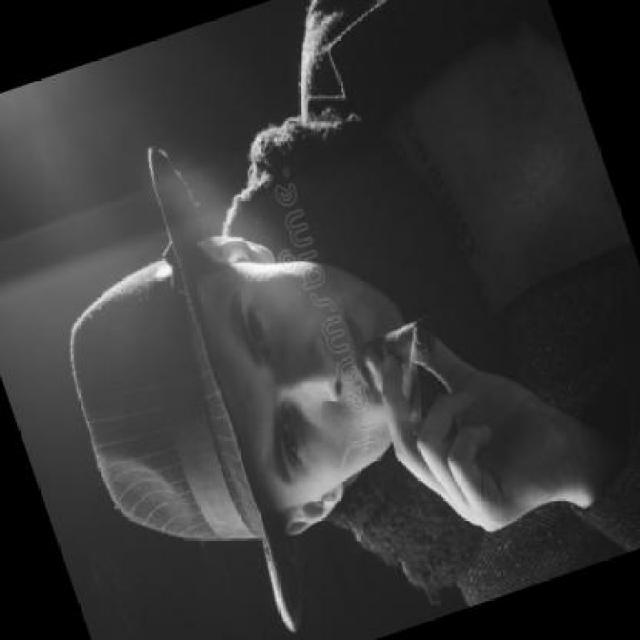cigarette: (354, 308, 446, 378)
